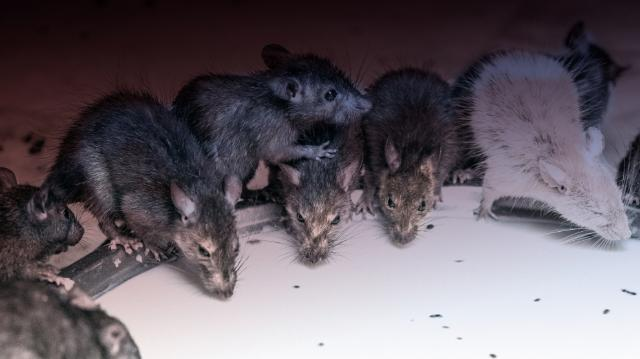rat: (91, 84, 252, 306), (214, 39, 380, 172), (501, 116, 639, 260), (250, 144, 368, 276), (356, 118, 466, 256), (0, 159, 91, 274)
